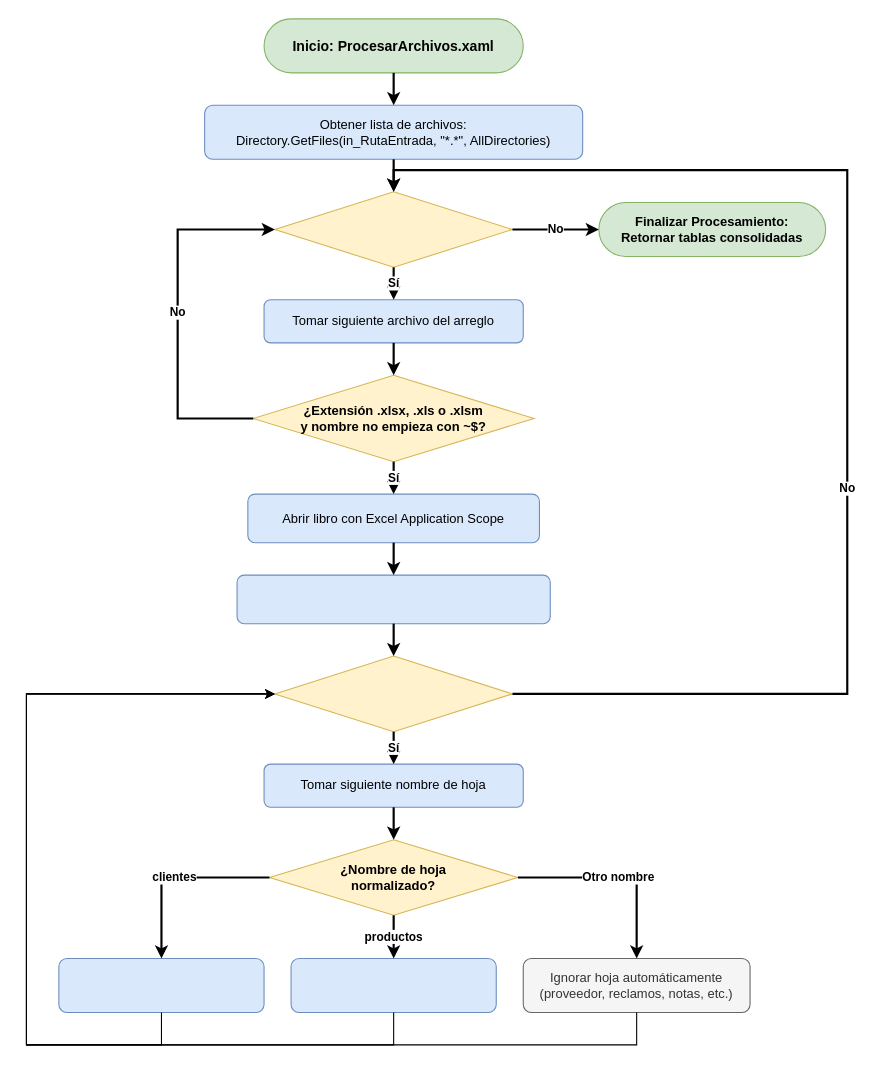
Image size: 876x1072. Some labels were removed from this diagram. Here are the shapes that lost their labels. From the top down, the centre of each, then its label:
point (393, 229): ¿Hay más archivos por procesar?
point (393, 599): Obtener lista de hojas con Get Workbook Sheets
point (393, 693): ¿Hay más hojas en el libro?
point (161, 985): Leer con Read Range Invocar ValidarClientes.vb
point (393, 985): Leer con Read Range Invocar ValidarProductos.vb
